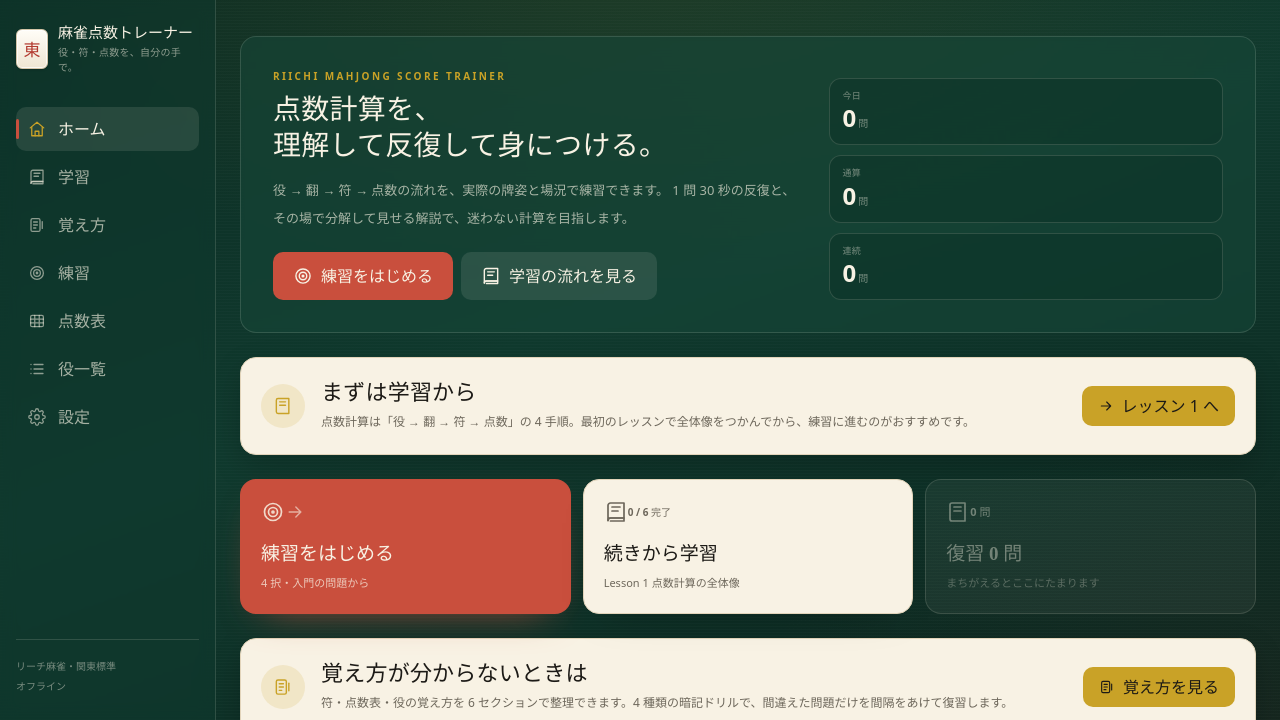
Test: UI シェル › タブを切り替えると画面とハッシュが変わる
This screenshot has width=1280, height=720.
Click the button "練習": click(108, 273) [16,251,199,295]
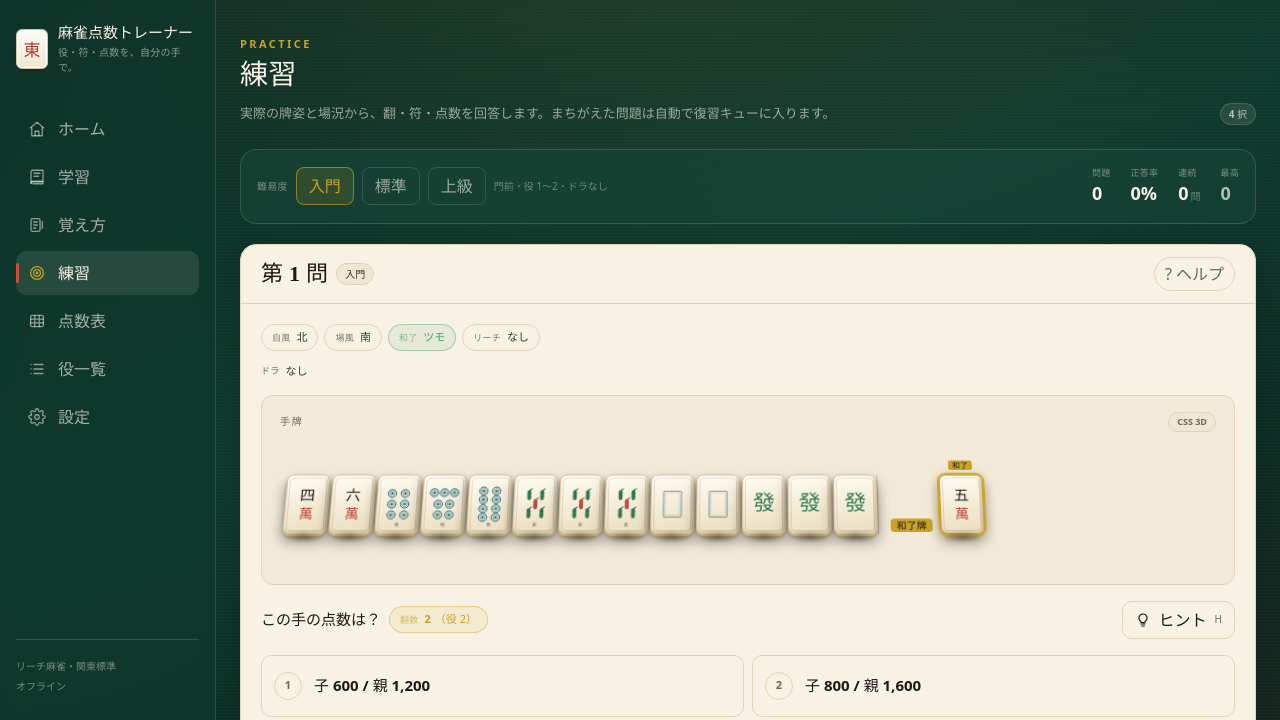
expect the heading "練習" is shown: met, box [240,58,297,90]
Click the button "点数表": click(108, 321) [16,299,199,343]
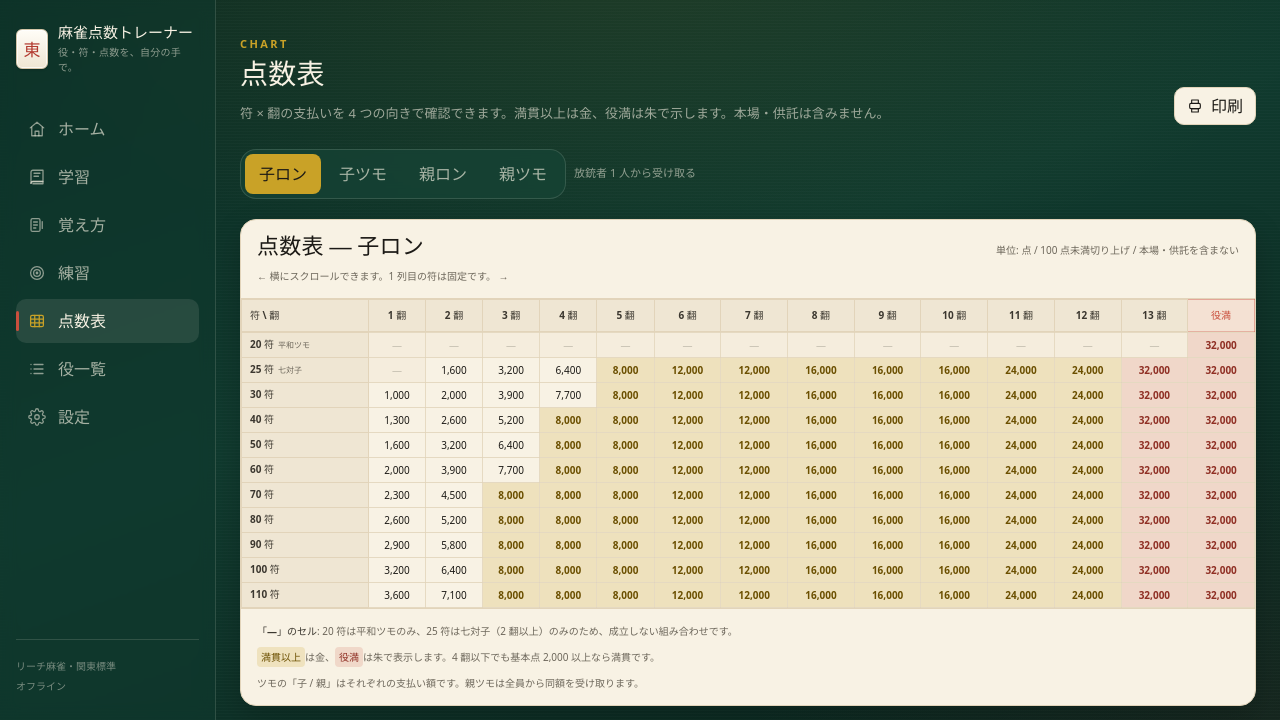
expect the heading "点数表" is shown: met, box [240,58,325,90]
